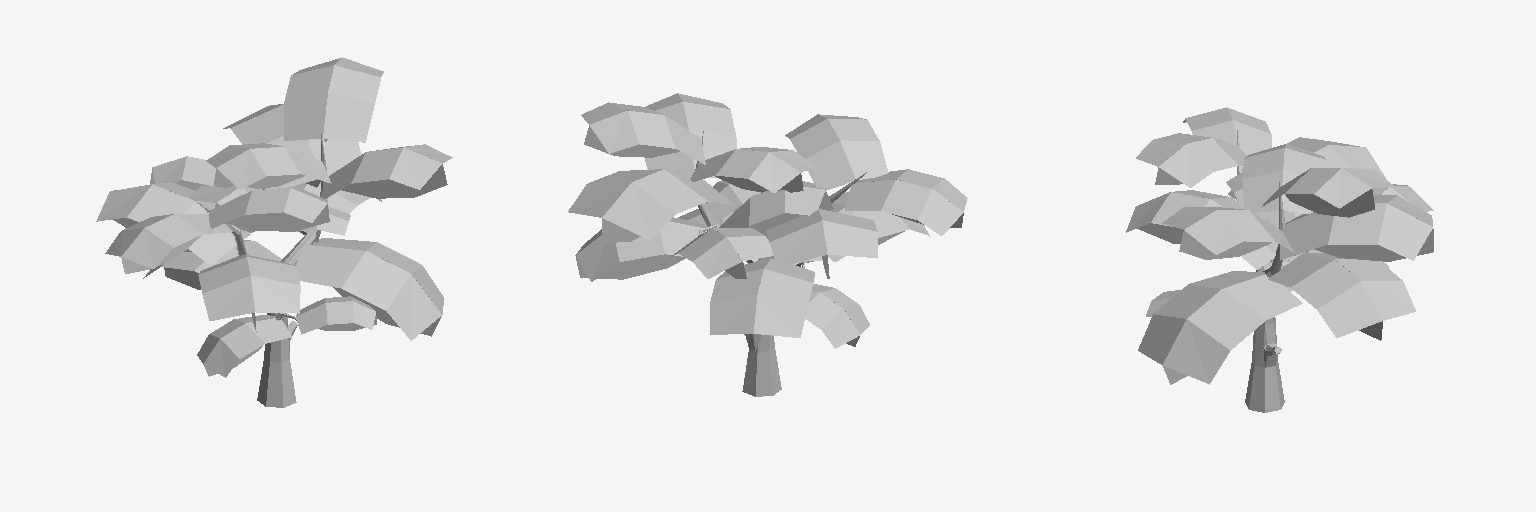
The model's file is tree21.obj.
3 views of the same model, side by side, from view 1: azimuth 30°, elevation 25°; view 2: azimuth 150°, elevation 25°; view 3: azimuth 270°, elevation 25° (orthographic).
Visible parts, largest first — view 1: pasted__pasted__treeWide_null_ pasted__group29 group30; view 2: pasted__pasted__treeWide_null_ pasted__group29 group30; view 3: pasted__pasted__treeWide_null_ pasted__group29 group30.
Part boxes in pixels (x1,y1,x2,y2): pasted__pasted__treeWide_null_ pasted__group29 group30: (96,57,452,407); pasted__pasted__treeWide_null_ pasted__group29 group30: (568,93,967,396); pasted__pasted__treeWide_null_ pasted__group29 group30: (1126,107,1433,412).
Size of the model in its own units: 44.68 by 36.53 by 36.13.